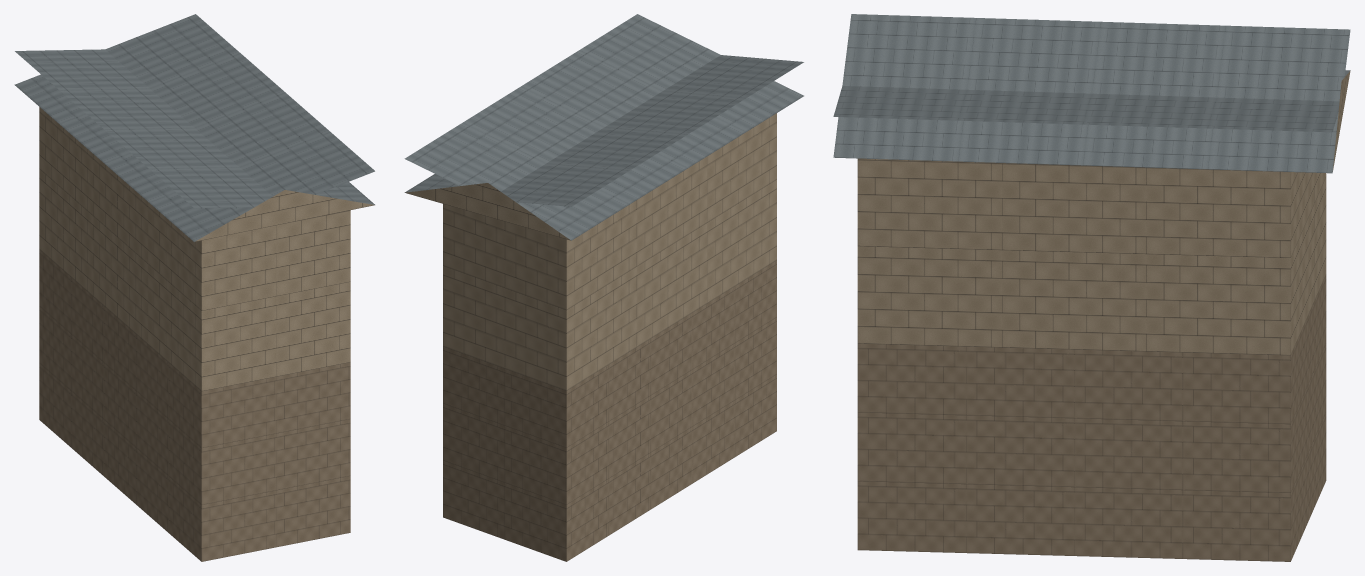
The model's file is bld_c9_26_403.gltf.
3 views of the same model, side by side, from view 1: azimuth 30°, elevation 25°; view 2: azimuth 150°, elevation 25°; view 3: azimuth 270°, elevation 25° (orthographic). The views are drawn at different scales.
Visible parts, largest first — view 1: bld_c9_26_403; view 2: bld_c9_26_403; view 3: bld_c9_26_403.
Boxes of the visible parts, left/top/right/bottom form: bld_c9_26_403: left=14, top=14, right=374, bottom=561; bld_c9_26_403: left=404, top=14, right=803, bottom=561; bld_c9_26_403: left=833, top=14, right=1350, bottom=561.
Size of the model in its own units: 6.2 by 10.8 by 11.45.
4 materials, 4 textured.
